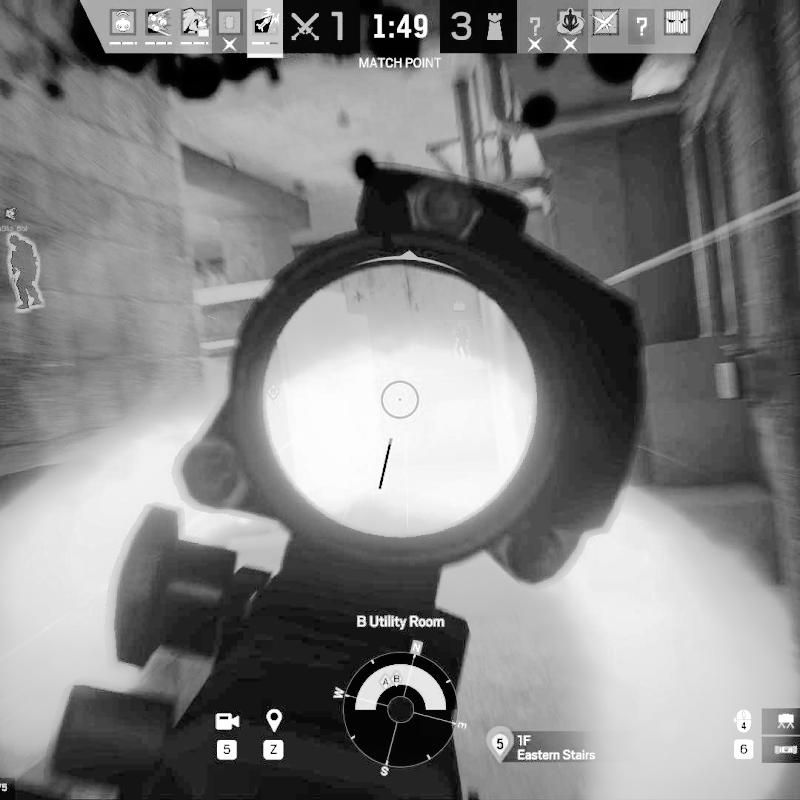Friend_label: (431, 299, 487, 326), (0, 205, 30, 232)
